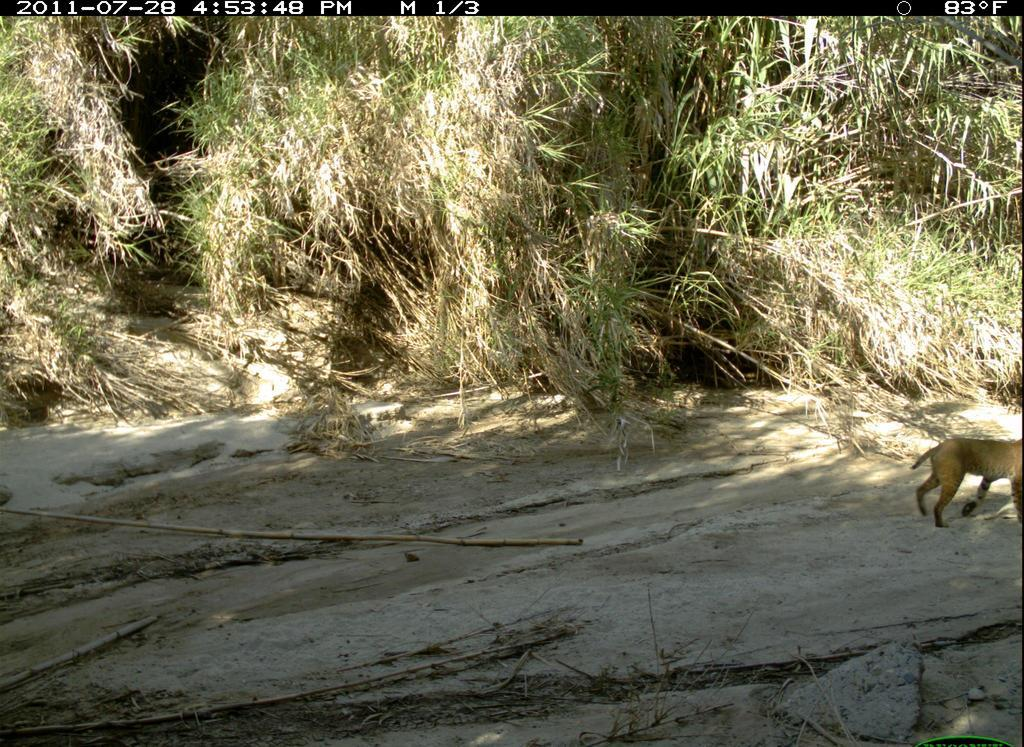bobcat: (911, 436, 1023, 529)
